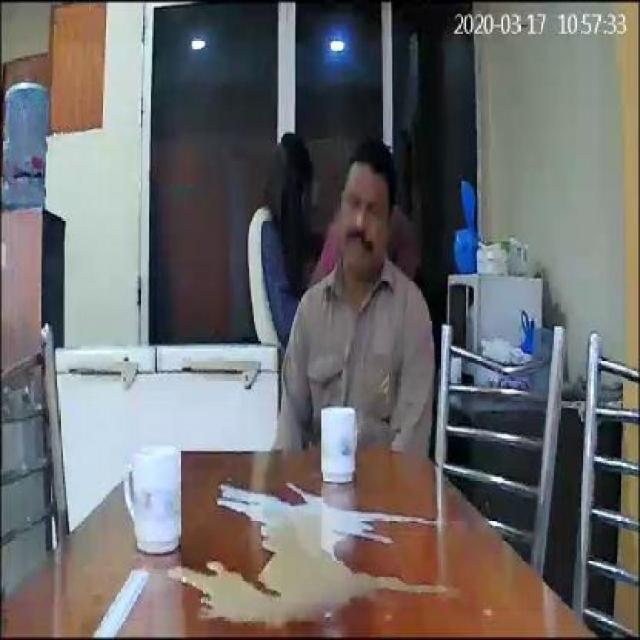spill: (176, 542, 462, 626)
